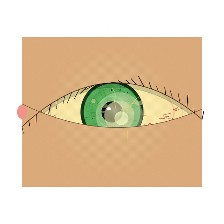corneal_ulcer: (95, 96, 144, 135)
